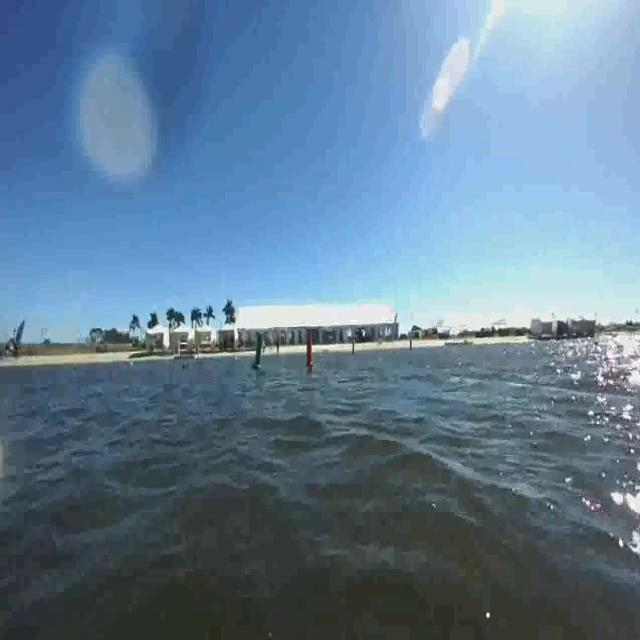green-column-buoy: (254, 331, 268, 371)
red-column-buoy: (303, 334, 313, 368)
